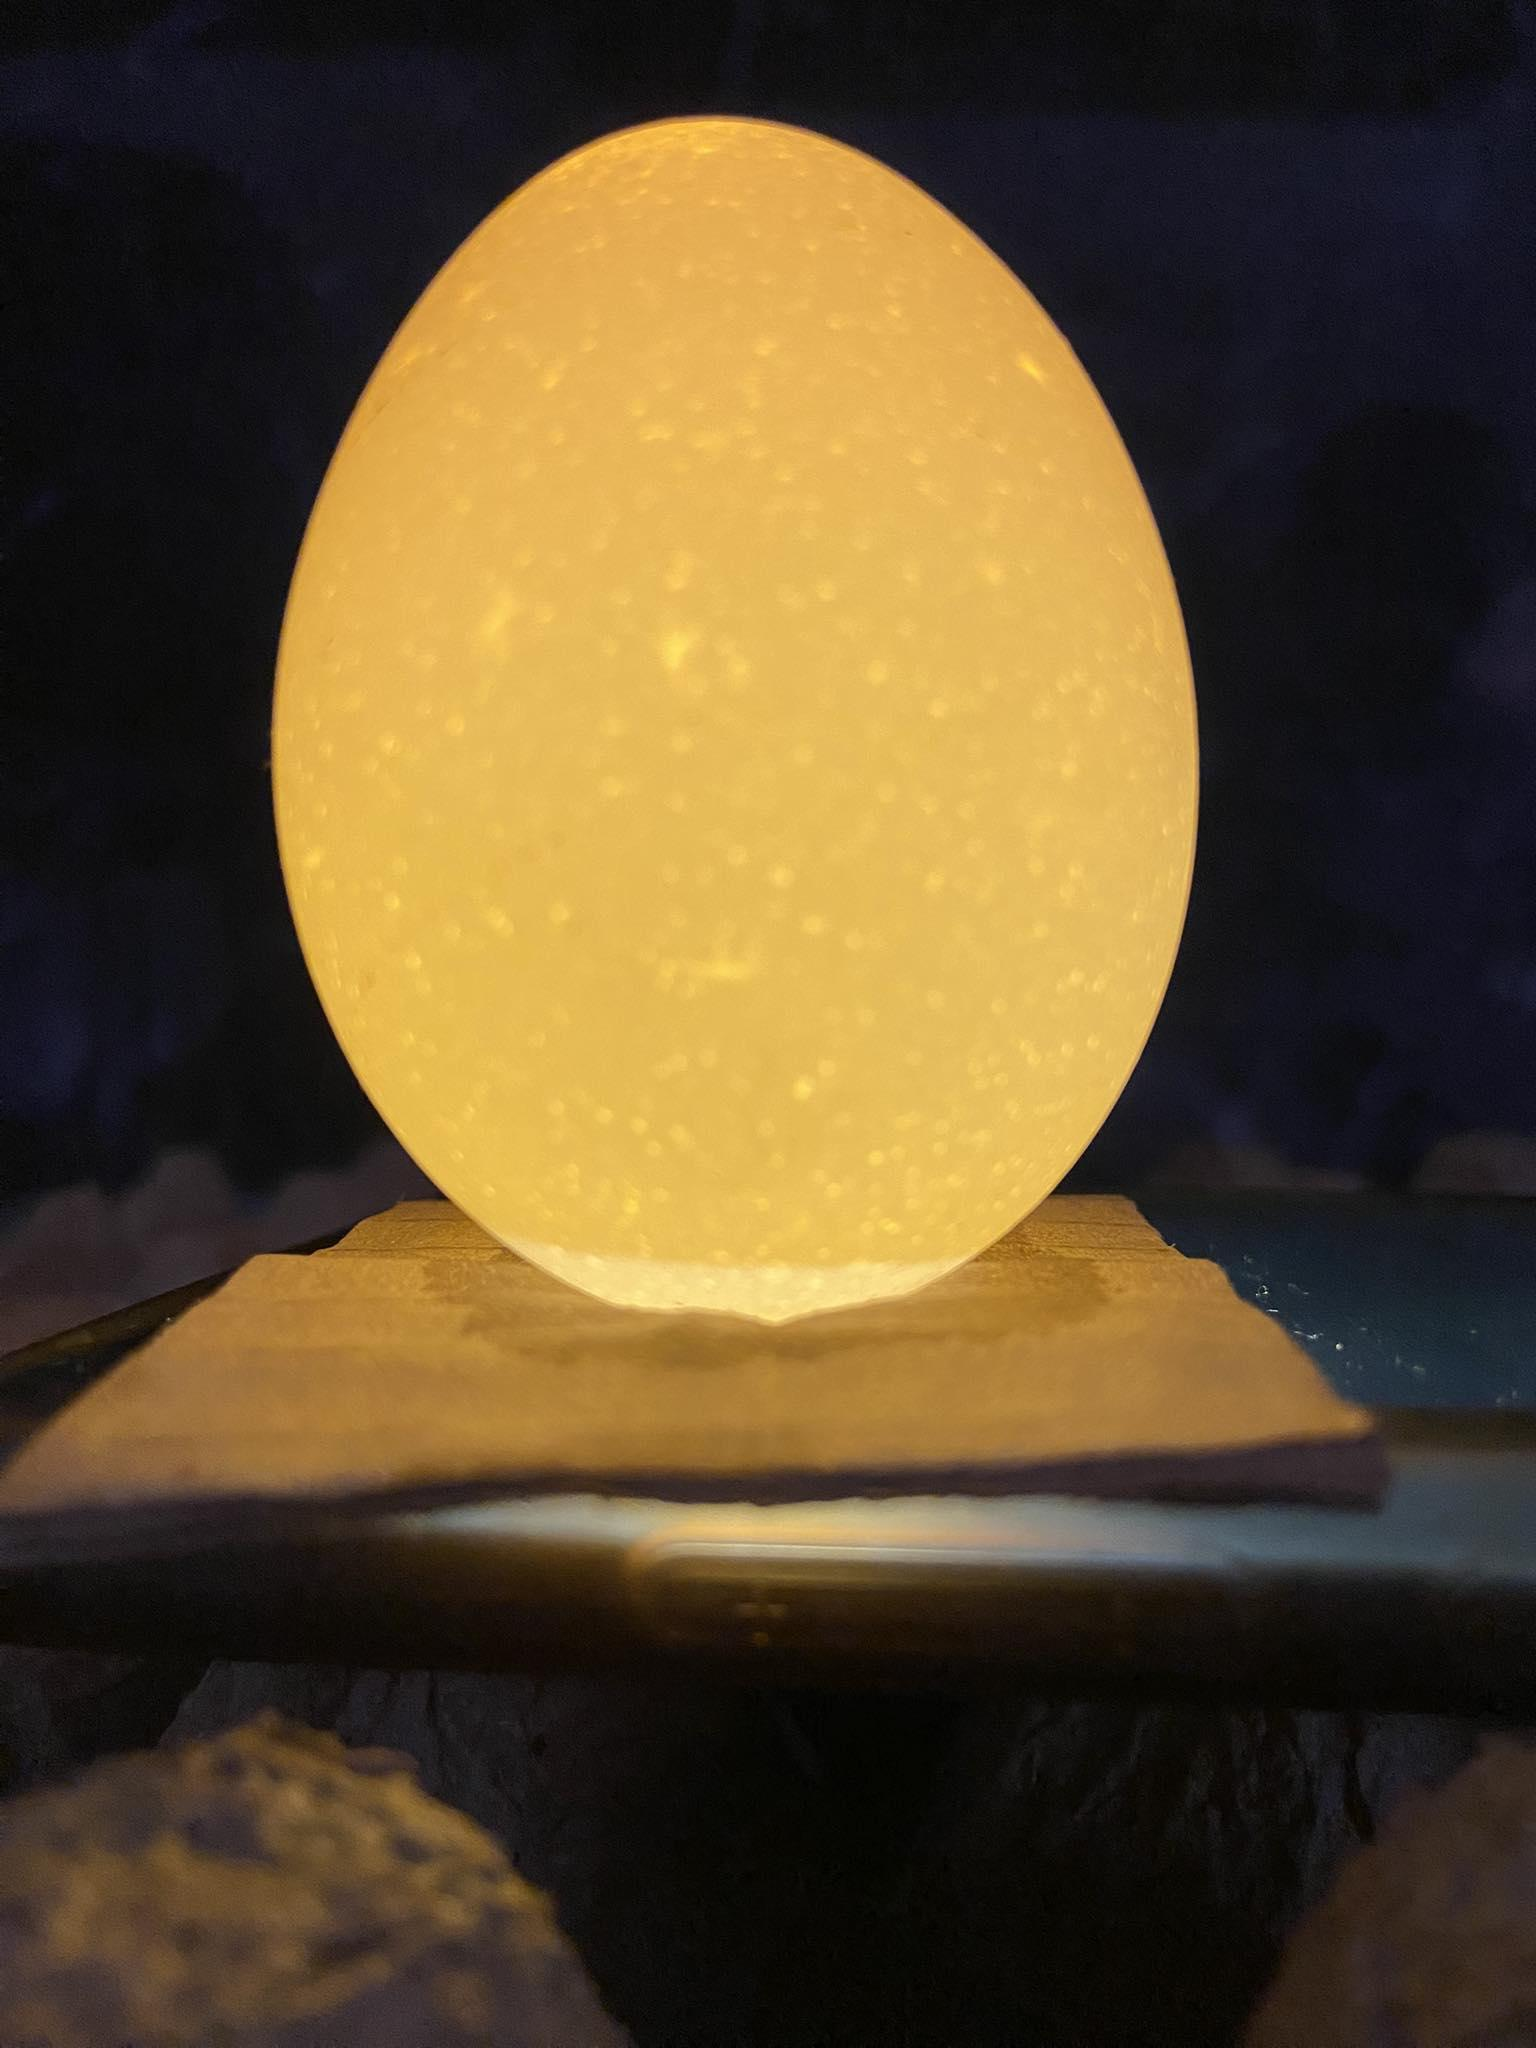AA - Premium: (273, 87, 1200, 1350)
